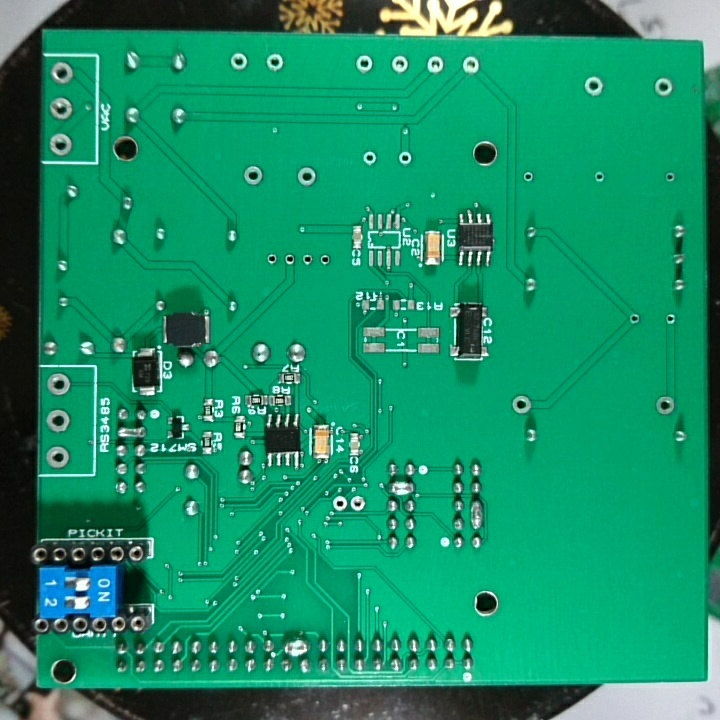F: (44, 370, 74, 399), (49, 60, 76, 89), (240, 163, 267, 191), (45, 407, 72, 435), (48, 94, 74, 123), (48, 129, 74, 157), (581, 74, 608, 100), (293, 165, 320, 191), (44, 443, 71, 469), (651, 75, 676, 102), (652, 393, 679, 418), (508, 393, 534, 418), (388, 52, 411, 77), (458, 55, 484, 77), (354, 52, 375, 78), (424, 54, 446, 77), (265, 49, 285, 74), (228, 52, 249, 75), (349, 491, 368, 515), (359, 149, 380, 169), (396, 149, 414, 168), (626, 311, 645, 329), (331, 493, 348, 512), (280, 252, 298, 269), (299, 252, 317, 269), (591, 169, 608, 186), (264, 251, 280, 269), (661, 312, 679, 328), (662, 169, 677, 187), (522, 168, 537, 186), (318, 252, 332, 270)
P: (282, 636, 311, 660), (385, 477, 417, 495), (468, 499, 485, 531), (114, 424, 147, 440)
